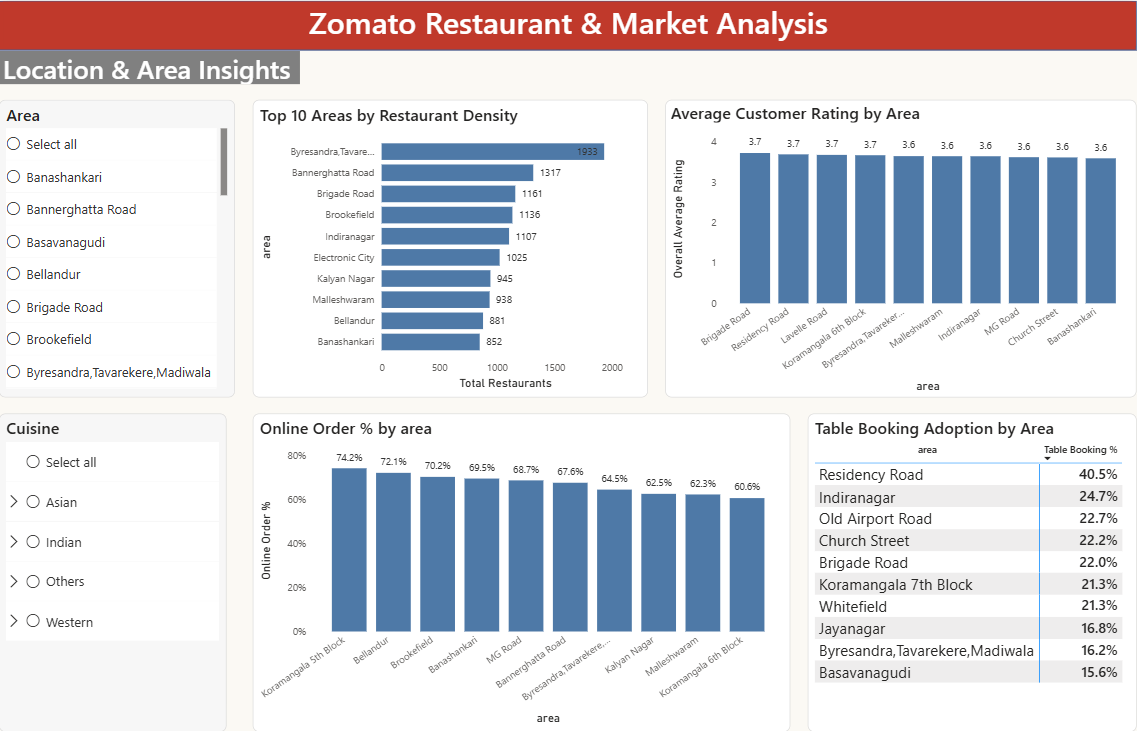

Layout of this report page (visuals, bound fields, positions):
{"tool":"powerbi","page":{"name":"Location & Area Insights","canvas":[1400,900],"ordinal":1},"visuals":[{"type":"listSlicer","title":"Area","fields":{"Values":["zomato.area"]},"box":[0,121.5,290.8,366.2],"z":0},{"type":"listSlicer","title":"Cuisine","fields":{"Values":["zomato.Cuisine Group","zomato.cuisines type"]},"box":[0,507.7,280,392.3],"z":1000},{"type":"clusteredBarChart","title":"Top 10 Areas by Restaurant Density","fields":{"Category":["zomato.area"],"Y":["_Measures.Total Restaurants"]},"box":[312.3,121.5,486.2,366.2],"z":2000},{"type":"clusteredColumnChart","title":"Average Customer Rating by Area","fields":{"Category":["zomato.area"],"Y":["_Measures.Overall Average Rating"]},"box":[820,121.5,580,366.2],"z":3000},{"type":"clusteredColumnChart","fields":{"Category":["zomato.area"],"Y":["_Measures.Online Order %"]},"box":[312.3,507.7,661.5,392.3],"z":4000},{"type":"pivotTable","title":"Table Booking Adoption by Area","fields":{"Rows":["zomato.area"],"Values":["_Measures.Table Booking %"]},"box":[995.4,507.7,404.6,392.3],"z":5000},{"type":"textbox","title":"Zomato Restaurant & Market Analysis ","box":[0,0,1400,61],"z":6000},{"type":"textbox","title":"Location & Area Insights","box":[0,61.5,370,41],"z":7000}]}

Visuals, with their boxes in screenshot pixels (x1, y1, x2, y2), scaled from the page's 1400x900 canvas onto the 1137x731 screenshot:
"Area" listSlicer: left=0, top=99, right=236, bottom=396
"Cuisine" listSlicer: left=0, top=412, right=227, bottom=730
"Top 10 Areas by Restaurant Density" clusteredBarChart: left=254, top=99, right=648, bottom=396
"Average Customer Rating by Area" clusteredColumnChart: left=666, top=99, right=1136, bottom=396
clusteredColumnChart - zomato.area x _Measures.Online Order %: left=254, top=412, right=791, bottom=730
"Table Booking Adoption by Area" pivotTable: left=808, top=412, right=1136, bottom=730
"Zomato Restaurant & Market Analysis " textbox: left=0, top=0, right=1136, bottom=50
"Location & Area Insights" textbox: left=0, top=50, right=300, bottom=83
